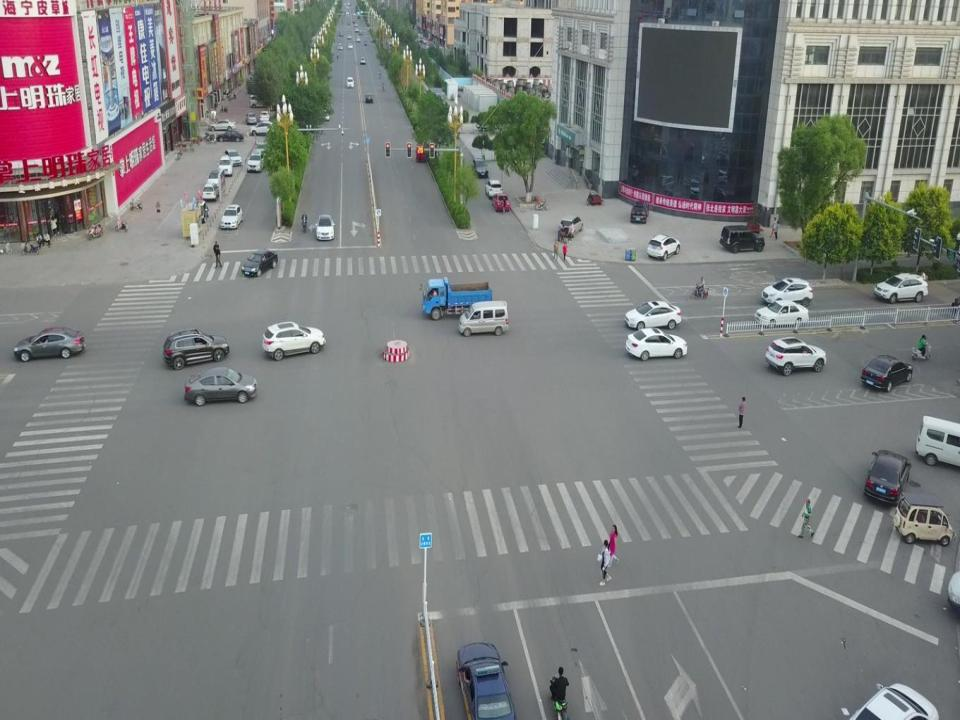car: (457, 642, 517, 720), (836, 679, 939, 720), (184, 367, 258, 407), (162, 328, 230, 370), (865, 450, 912, 506), (13, 326, 84, 362), (262, 322, 326, 361), (764, 337, 826, 375), (861, 355, 913, 392), (626, 328, 687, 358), (624, 300, 681, 328), (874, 273, 927, 303), (754, 301, 808, 328), (760, 278, 812, 305), (720, 226, 765, 253), (242, 248, 278, 276), (646, 233, 680, 261), (220, 204, 243, 229), (560, 216, 583, 237), (314, 216, 334, 240), (630, 200, 649, 224), (249, 121, 275, 136), (246, 152, 265, 172), (216, 129, 244, 142), (485, 180, 503, 200), (222, 148, 242, 166), (193, 201, 209, 223), (472, 158, 489, 178), (202, 182, 219, 202), (208, 118, 236, 130), (492, 194, 510, 212), (218, 155, 232, 176), (206, 170, 220, 190), (255, 142, 267, 159), (246, 113, 257, 124), (364, 93, 374, 104), (259, 111, 270, 121), (346, 76, 354, 88), (370, 38, 380, 43), (360, 57, 366, 64), (348, 43, 353, 49), (338, 43, 342, 50), (339, 32, 343, 37), (355, 28, 359, 33), (348, 35, 352, 39), (359, 31, 363, 35), (356, 38, 360, 42)
van: (892, 492, 956, 546), (915, 415, 960, 467), (459, 300, 508, 336), (250, 95, 274, 108)
